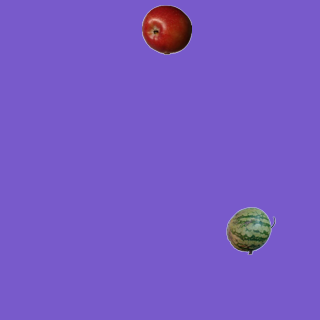Apple Braeburn: (141, 4, 191, 54)
Watermelon: (225, 205, 275, 255)
